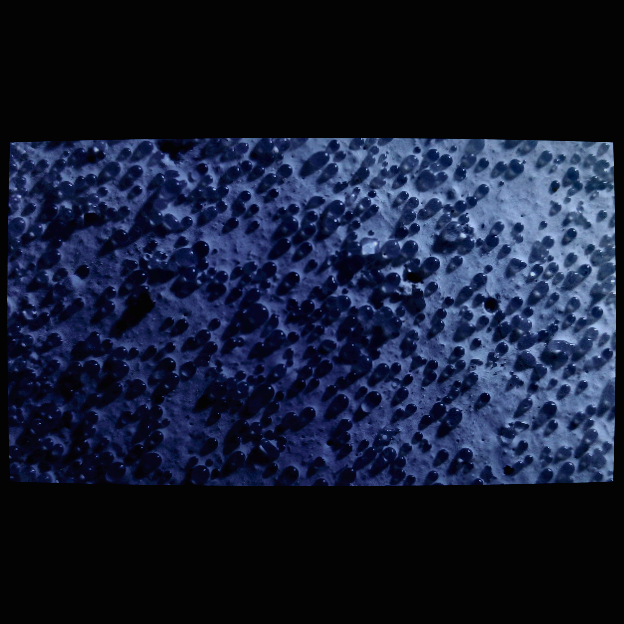GrassBeadSeg: (46, 247, 394, 331), (41, 267, 155, 479), (165, 177, 346, 309), (472, 271, 568, 474), (197, 388, 382, 479), (235, 172, 384, 274), (287, 406, 463, 480), (43, 446, 396, 482), (234, 187, 377, 274), (469, 196, 602, 289), (485, 201, 580, 330), (14, 231, 100, 373), (41, 164, 238, 225), (194, 162, 325, 251), (41, 158, 255, 212), (149, 382, 275, 467), (228, 153, 360, 227), (33, 356, 124, 458), (351, 148, 439, 251), (278, 147, 360, 251), (414, 353, 486, 467), (389, 261, 539, 315), (378, 286, 473, 371), (30, 396, 266, 430), (367, 171, 474, 245), (472, 235, 554, 331), (235, 398, 422, 439), (328, 172, 520, 211), (209, 225, 355, 274), (40, 279, 189, 327), (420, 170, 480, 287), (348, 183, 428, 269), (210, 417, 352, 465), (237, 330, 295, 444), (96, 418, 248, 461), (463, 307, 513, 437), (91, 398, 172, 478), (101, 436, 392, 458), (533, 166, 609, 246), (18, 184, 127, 238), (515, 221, 611, 282), (461, 399, 557, 460), (312, 195, 371, 294), (321, 357, 377, 456), (112, 385, 172, 474), (220, 379, 278, 470), (405, 340, 491, 401), (134, 269, 207, 340), (508, 158, 546, 294), (50, 331, 84, 482), (496, 159, 554, 245), (180, 263, 269, 317), (229, 362, 287, 444), (486, 151, 596, 194), (335, 223, 440, 268), (309, 193, 372, 267), (164, 428, 256, 478), (456, 172, 578, 209), (365, 280, 434, 343), (331, 139, 403, 197), (238, 140, 294, 214), (198, 215, 299, 255), (208, 136, 274, 197), (468, 152, 599, 182), (8, 306, 110, 344), (475, 158, 607, 187), (397, 386, 438, 479), (465, 249, 511, 331), (521, 297, 580, 359), (454, 396, 527, 446), (437, 447, 553, 477), (130, 225, 194, 278), (199, 331, 299, 364), (314, 378, 352, 464), (382, 160, 414, 260), (539, 165, 578, 246), (569, 140, 609, 217), (208, 219, 260, 274), (116, 345, 148, 434), (205, 240, 309, 267), (236, 163, 293, 212), (14, 328, 82, 369), (24, 464, 209, 479), (479, 156, 552, 194), (287, 359, 332, 420), (152, 429, 243, 459), (271, 229, 295, 341), (514, 227, 564, 280), (543, 429, 598, 477), (529, 397, 594, 437), (184, 188, 251, 226), (45, 422, 151, 446), (274, 342, 373, 367), (359, 165, 419, 205), (443, 162, 483, 221), (49, 246, 196, 262), (25, 138, 106, 167), (406, 218, 499, 243), (33, 386, 73, 444), (213, 307, 340, 325), (16, 174, 69, 217), (362, 413, 431, 446), (323, 338, 348, 429), (380, 154, 467, 180), (72, 367, 93, 472), (418, 387, 459, 439), (218, 398, 271, 438), (567, 226, 615, 270), (388, 278, 550, 291), (27, 191, 137, 210), (106, 161, 173, 192), (32, 167, 64, 231), (458, 166, 555, 187), (215, 379, 245, 446), (11, 193, 65, 230), (18, 356, 69, 395), (232, 278, 270, 330), (342, 229, 374, 290), (572, 152, 602, 217), (254, 319, 269, 446), (114, 393, 145, 453), (454, 327, 486, 385), (214, 374, 256, 418), (521, 306, 603, 328), (309, 230, 357, 267), (231, 313, 335, 330), (11, 430, 91, 452), (313, 149, 340, 214), (263, 286, 323, 315), (206, 150, 243, 197), (10, 200, 117, 216), (13, 243, 68, 274), (409, 194, 469, 222), (421, 311, 459, 355), (435, 415, 473, 459), (278, 374, 346, 398), (131, 346, 160, 402), (308, 167, 338, 221), (368, 232, 420, 263), (316, 150, 346, 203), (529, 295, 577, 328), (455, 382, 474, 465), (50, 406, 86, 449), (212, 436, 251, 475), (398, 225, 474, 245), (252, 406, 315, 430), (291, 242, 312, 314), (204, 173, 233, 225), (303, 298, 332, 350), (499, 157, 559, 182), (494, 219, 576, 237), (204, 429, 245, 465), (489, 219, 548, 244), (229, 376, 275, 408), (26, 155, 159, 166), (337, 406, 357, 479), (557, 241, 595, 279), (163, 416, 194, 462), (53, 420, 96, 453), (119, 182, 162, 215), (296, 291, 397, 305), (164, 370, 218, 396), (155, 149, 182, 200), (208, 421, 263, 446), (92, 285, 116, 342), (252, 298, 357, 311), (553, 160, 584, 204), (54, 235, 188, 245), (228, 331, 319, 345), (214, 308, 244, 350), (87, 409, 111, 461), (117, 355, 176, 376), (122, 409, 160, 441), (409, 338, 502, 351), (79, 262, 113, 297), (545, 413, 572, 457), (258, 352, 320, 371), (462, 157, 504, 185), (423, 437, 468, 463), (107, 265, 133, 309), (35, 458, 87, 480), (227, 148, 341, 158), (335, 293, 353, 356), (438, 170, 467, 209), (115, 451, 162, 475), (351, 268, 374, 317), (398, 179, 420, 230), (28, 297, 84, 317), (117, 239, 158, 266), (245, 361, 283, 390), (519, 296, 545, 338), (403, 238, 436, 271), (445, 177, 469, 222), (99, 184, 142, 209), (231, 152, 275, 176), (405, 154, 418, 235), (58, 175, 113, 194), (316, 194, 374, 212), (362, 195, 477, 204), (503, 149, 552, 170), (8, 309, 37, 344), (395, 387, 408, 464), (593, 305, 613, 355), (133, 379, 160, 416), (100, 185, 224, 193), (89, 191, 127, 217), (259, 348, 272, 423), (284, 465, 349, 480), (74, 424, 96, 468), (65, 391, 99, 419), (594, 233, 611, 289), (136, 266, 198, 281), (434, 253, 459, 290), (299, 306, 353, 323), (327, 161, 418, 171), (569, 209, 591, 250), (132, 208, 163, 237), (281, 202, 300, 249), (131, 163, 205, 175), (184, 373, 226, 394), (25, 337, 113, 347), (288, 271, 311, 309), (189, 316, 220, 344), (358, 311, 385, 343), (267, 237, 291, 273), (20, 181, 81, 195), (45, 389, 73, 419), (99, 186, 201, 194), (432, 162, 449, 210), (197, 161, 271, 172), (341, 340, 368, 370), (21, 430, 38, 477), (485, 437, 509, 470), (365, 445, 406, 464), (519, 468, 603, 477), (251, 206, 287, 227), (218, 261, 258, 279), (430, 163, 446, 208), (197, 257, 229, 279), (75, 147, 94, 184), (12, 207, 30, 246), (397, 290, 421, 319), (35, 203, 58, 233), (77, 155, 100, 184), (595, 249, 615, 282), (525, 452, 597, 461), (125, 404, 163, 421), (289, 285, 321, 305), (265, 261, 294, 283), (427, 449, 448, 479), (276, 354, 290, 398), (400, 189, 415, 230), (88, 360, 129, 375), (361, 315, 402, 330), (271, 434, 288, 470), (359, 463, 406, 476), (370, 151, 399, 172), (42, 303, 80, 319), (553, 185, 578, 209), (190, 453, 216, 476), (565, 336, 589, 360), (420, 298, 468, 310), (333, 392, 374, 406), (599, 147, 607, 217), (522, 350, 532, 406), (537, 330, 550, 373), (344, 442, 406, 451), (457, 344, 472, 381), (458, 157, 488, 175), (129, 246, 153, 268), (381, 305, 389, 371), (55, 437, 88, 453), (232, 286, 248, 318), (345, 203, 379, 218), (163, 359, 197, 374), (431, 400, 454, 422), (544, 349, 565, 373), (224, 272, 248, 293), (385, 252, 401, 283), (37, 269, 86, 279), (384, 238, 414, 254), (42, 416, 58, 446), (470, 370, 485, 401), (419, 201, 452, 215), (286, 346, 316, 361), (13, 317, 45, 331), (317, 455, 366, 464), (589, 440, 611, 460), (141, 393, 164, 412), (251, 193, 274, 212), (459, 255, 470, 294), (234, 446, 267, 459), (28, 374, 53, 391), (168, 335, 196, 350), (205, 179, 217, 214), (253, 163, 274, 183), (399, 165, 425, 181), (139, 403, 156, 427), (355, 142, 375, 162), (154, 214, 194, 224), (420, 206, 446, 221), (312, 217, 338, 232), (103, 449, 142, 459), (23, 332, 58, 343), (331, 136, 363, 148), (555, 250, 574, 270), (90, 330, 110, 349), (18, 358, 60, 367), (353, 309, 380, 323), (86, 172, 98, 203), (404, 207, 435, 219), (584, 451, 598, 477), (217, 283, 243, 297), (179, 191, 199, 209), (241, 158, 262, 175), (270, 399, 281, 431), (502, 225, 524, 241), (179, 327, 211, 338), (133, 171, 165, 182), (54, 236, 63, 275), (10, 437, 32, 452), (98, 145, 131, 155), (571, 158, 582, 188), (502, 237, 524, 252), (230, 340, 266, 349), (250, 362, 265, 383), (403, 442, 411, 481), (271, 187, 282, 215), (150, 239, 184, 248), (150, 341, 175, 353), (112, 383, 142, 393), (513, 294, 523, 323), (132, 343, 156, 355), (588, 260, 612, 272), (90, 445, 108, 461), (264, 136, 288, 148), (566, 253, 577, 279), (430, 152, 453, 164), (230, 368, 246, 385), (559, 457, 576, 473), (500, 321, 509, 351), (49, 205, 73, 216), (97, 149, 126, 158), (56, 157, 82, 167), (40, 364, 55, 381), (294, 405, 311, 420), (423, 421, 432, 449), (209, 200, 227, 214), (592, 327, 599, 363), (218, 184, 228, 209), (414, 430, 427, 449), (23, 368, 36, 387), (339, 370, 357, 383), (345, 209, 353, 238), (601, 158, 609, 187), (266, 171, 289, 181), (344, 437, 369, 446), (267, 429, 283, 443), (552, 178, 559, 209), (99, 200, 112, 216), (504, 314, 517, 330), (218, 371, 241, 380), (192, 192, 204, 209), (367, 145, 379, 162), (574, 262, 586, 279), (206, 339, 214, 364), (229, 164, 249, 174), (515, 446, 524, 468), (529, 453, 553, 461), (591, 158, 599, 182), (265, 422, 286, 431), (599, 234, 607, 257), (341, 431, 350, 451), (74, 460, 89, 472), (540, 260, 555, 272), (306, 216, 317, 232), (24, 378, 43, 387), (24, 436, 41, 446), (599, 346, 609, 363), (421, 158, 435, 170), (247, 259, 254, 282), (234, 199, 248, 210), (399, 472, 416, 481), (315, 315, 324, 332), (141, 140, 153, 152), (543, 444, 551, 461), (212, 406, 223, 418), (250, 287, 261, 299), (379, 162, 385, 184), (381, 166, 395, 175), (589, 325, 595, 346), (413, 287, 424, 298), (11, 192, 23, 201), (153, 419, 166, 427), (595, 445, 606, 454), (403, 372, 413, 381), (445, 363, 455, 372), (429, 358, 438, 367), (408, 328, 417, 337), (328, 382, 337, 391), (435, 318, 444, 327), (297, 377, 306, 386), (307, 344, 316, 353), (458, 358, 467, 367), (472, 336, 481, 345), (476, 292, 485, 301), (479, 313, 488, 322), (549, 321, 558, 330), (578, 314, 587, 323), (510, 373, 519, 382), (561, 382, 570, 391), (586, 416, 595, 425), (586, 403, 595, 412), (576, 409, 585, 418), (578, 378, 588, 386), (549, 375, 557, 385), (393, 361, 401, 370), (428, 370, 436, 379), (359, 384, 367, 393), (437, 307, 446, 315), (396, 306, 405, 314), (371, 347, 379, 356), (311, 376, 319, 385), (408, 402, 416, 411), (396, 407, 404, 416), (446, 295, 454, 304), (496, 309, 505, 317), (551, 291, 559, 300), (566, 312, 575, 320), (567, 362, 576, 370), (602, 330, 610, 339), (170, 216, 178, 225), (525, 305, 533, 313), (549, 419, 557, 427), (450, 143, 458, 151), (304, 364, 311, 373), (464, 310, 473, 317), (257, 373, 266, 380), (530, 381, 537, 389), (475, 236, 483, 243), (541, 246, 549, 253), (539, 254, 547, 261), (568, 186, 576, 193), (558, 152, 566, 159), (379, 152, 387, 159), (352, 185, 360, 192), (276, 151, 284, 158), (172, 168, 180, 175), (62, 148, 70, 155), (160, 251, 168, 258), (141, 283, 149, 290), (166, 316, 174, 323), (237, 336, 245, 343), (209, 365, 217, 372), (271, 313, 279, 320), (307, 320, 314, 328), (327, 276, 335, 283), (485, 262, 492, 269), (547, 252, 554, 259), (564, 194, 571, 201), (414, 144, 421, 151), (71, 218, 78, 225), (375, 299, 382, 306), (340, 179, 348, 185), (55, 173, 63, 179), (210, 247, 218, 253), (181, 178, 187, 185), (16, 248, 22, 255), (29, 262, 36, 268), (341, 287, 348, 292)
